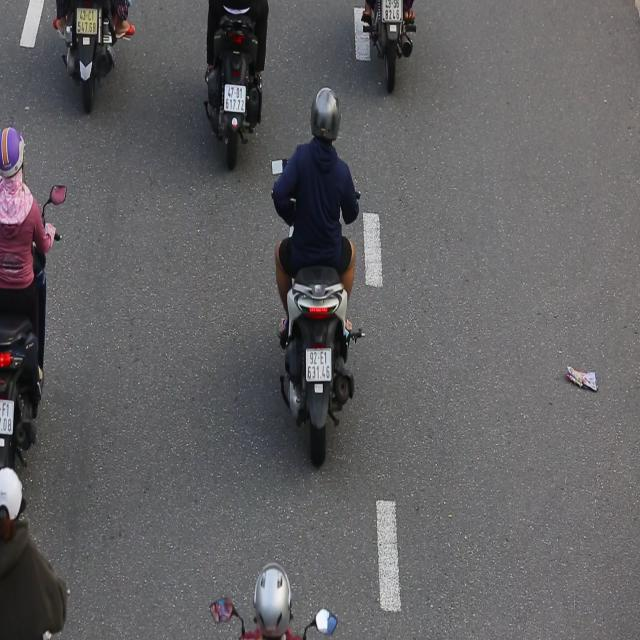motorbike: (273, 86, 363, 470)
